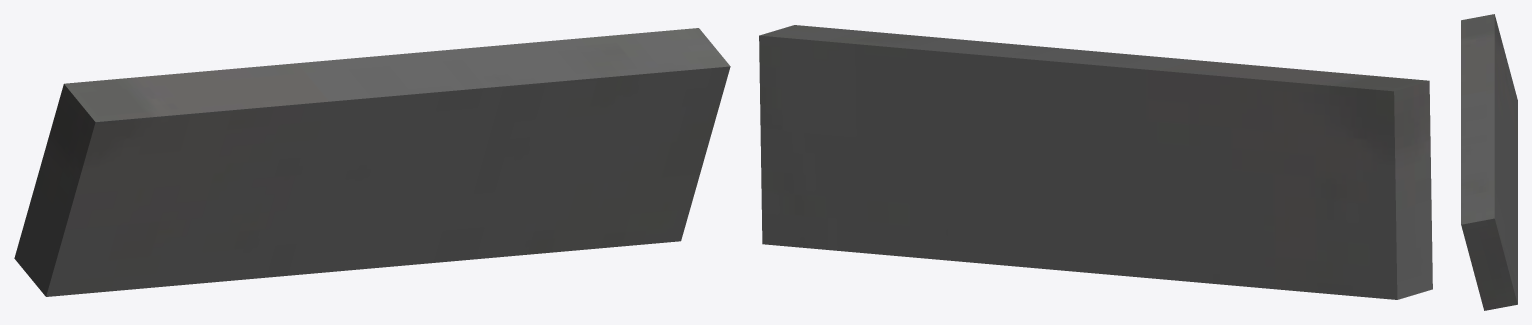
The model's file is fan_left__blade_8.glb.
3 renders of one model, left to right at view 1: azimuth 30°, elevation 25°; view 2: azimuth 150°, elevation 25°; view 3: azimuth 270°, elevation 25°, orthographic. The views are drawn at different scales.
Visible parts, largest first — view 1: world; view 2: world; view 3: world.
Part boxes in pixels (x1,y1,x2,y2): world: (14, 28, 730, 296); world: (759, 25, 1432, 299); world: (1461, 14, 1517, 310).
Size of the model in its own units: 0.0289 by 0.0124 by 0.00428.
1 material, 1 textured.
